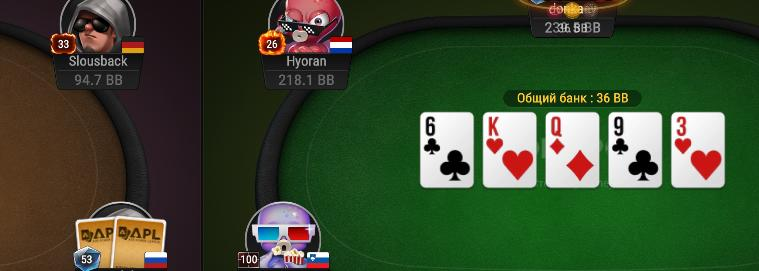3h: (672, 112, 724, 186)
6c: (419, 112, 474, 185)
9c: (610, 113, 662, 187)
Kh: (484, 113, 536, 186)
Qd: (546, 112, 599, 187)
